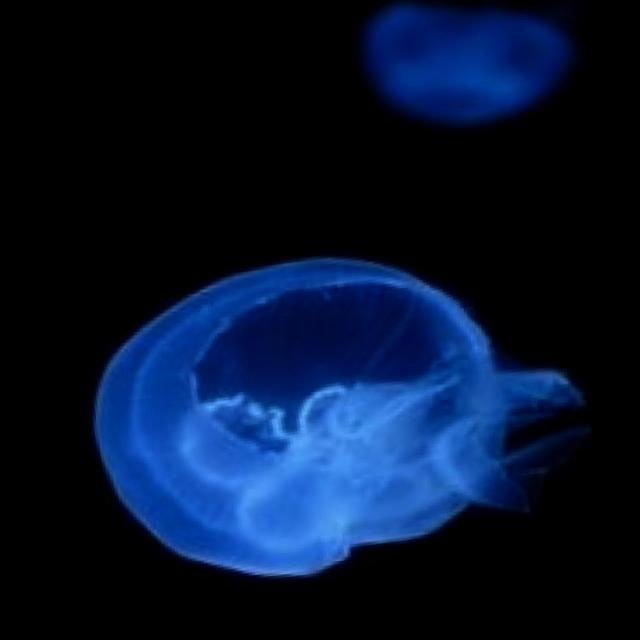Moon-jellyfish: (64, 228, 605, 606)
